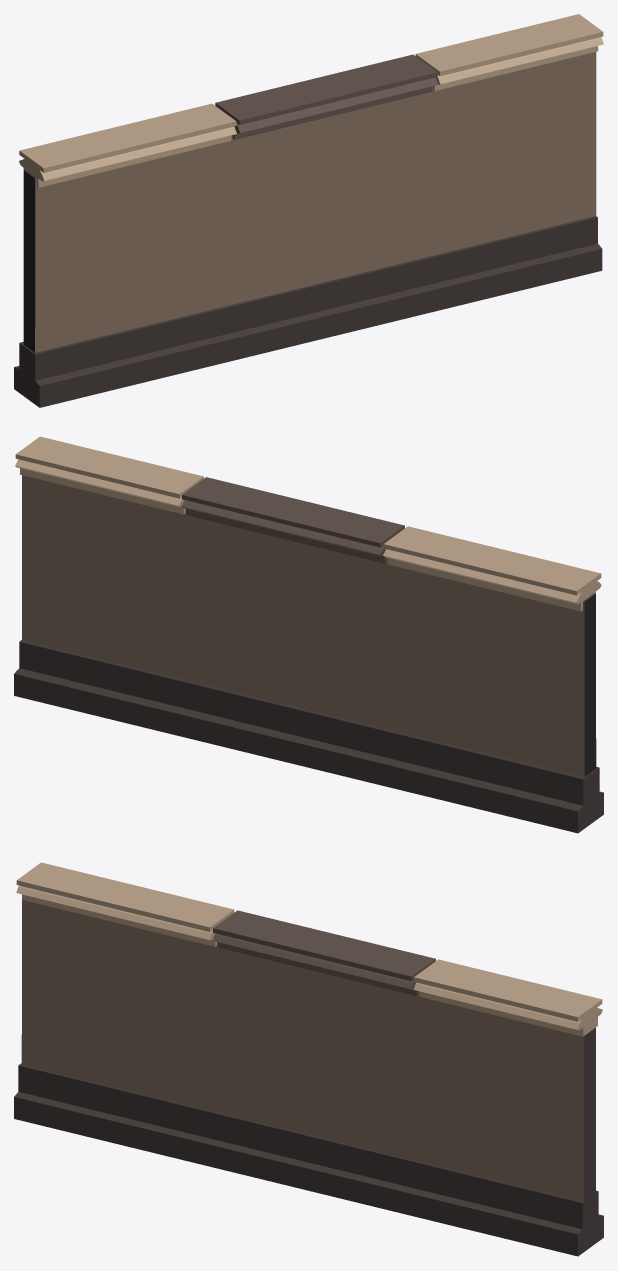
The model's file is ruin7.fbx.
3 renders of one model, top to bottom at view 1: azimuth 30°, elevation 25°; view 2: azimuth 150°, elevation 25°; view 3: azimuth 330°, elevation 25°, orthographic.
Visible parts, largest first — view 1: Object.005; view 2: Object.005; view 3: Object.005.
Part boxes in pixels (x1,y1,x2,y2): Object.005: (14,14,603,407); Object.005: (14,436,603,833); Object.005: (14,862,603,1256).
Size of the model in its own units: 13412 by 5445 by 1112.
